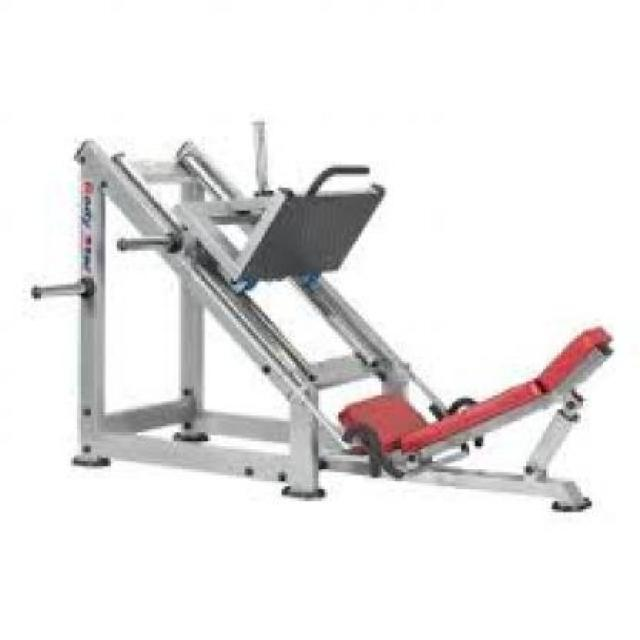leg press: (24, 101, 640, 564)
